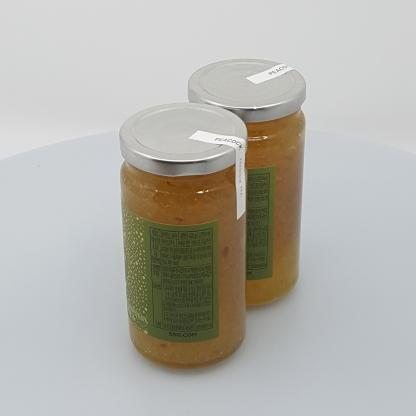------------420G: (119, 101, 249, 369), (187, 58, 306, 306)
